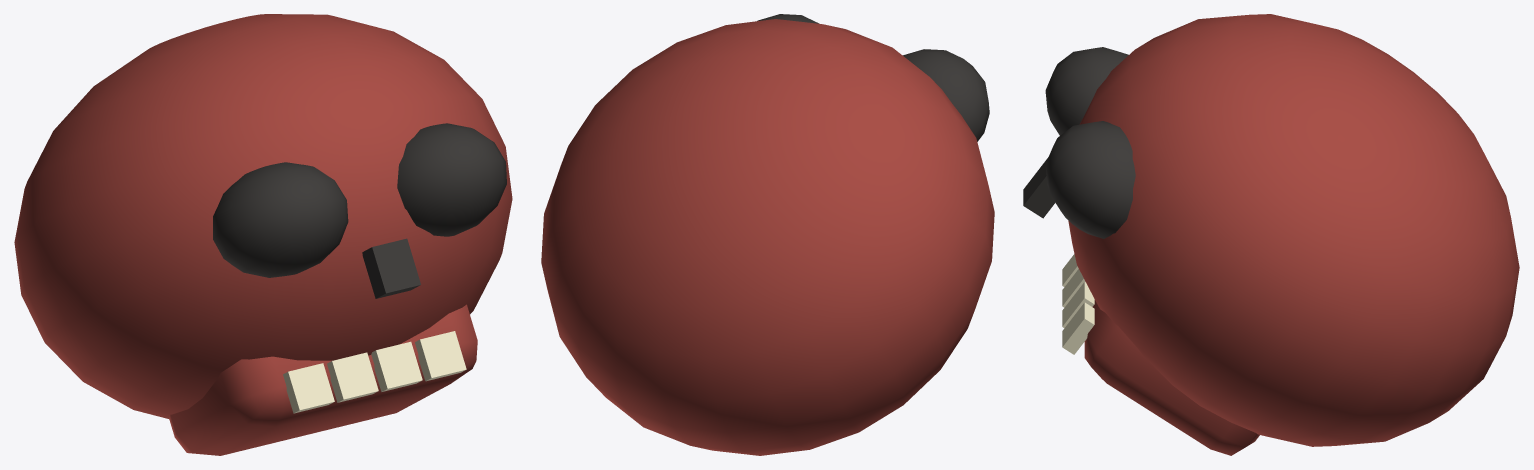
File: skull.glb
3 views of the same model, side by side, from view 1: azimuth 30°, elevation 25°; view 2: azimuth 150°, elevation 25°; view 3: azimuth 270°, elevation 25° (orthographic). The views are drawn at different scales.
Visible parts, largest first — view 1: cranium, jaw, eye, eye.001, nose, tooth1, tooth0, tooth3, tooth2; view 2: cranium, eye; view 3: cranium, eye.001, jaw, eye, nose, tooth3, tooth2.
Part boxes in pixels (x1,y1,x2,y2): cranium: (14, 14, 512, 418); jaw: (169, 304, 477, 455); eye: (213, 162, 348, 277); eye.001: (397, 123, 506, 236); nose: (362, 238, 420, 298); tooth1: (327, 352, 378, 402); tooth0: (283, 363, 334, 413); tooth3: (415, 331, 466, 381); tooth2: (371, 341, 422, 391); cranium: (541, 19, 994, 455); eye: (903, 49, 989, 141); cranium: (1068, 14, 1519, 446); eye.001: (1045, 121, 1135, 238); jaw: (1084, 300, 1259, 455); eye: (1045, 47, 1128, 135); nose: (1023, 157, 1055, 218); tooth3: (1062, 302, 1094, 354); tooth2: (1062, 282, 1094, 327).
Bounding box in the file's own units: 1 × 0.869 × 1.02.
